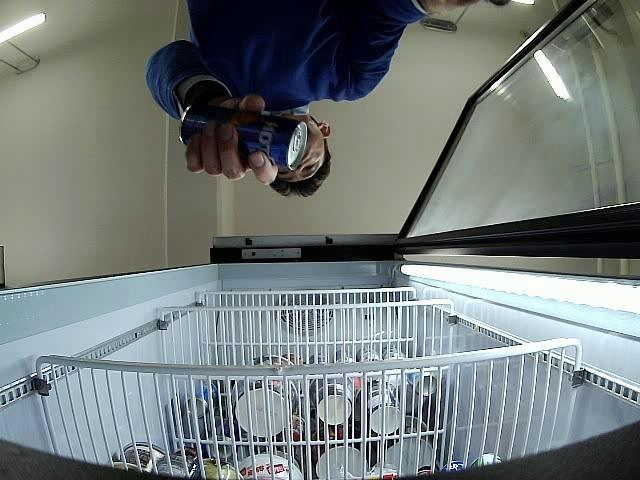16_hot6: (178, 102, 308, 172)
